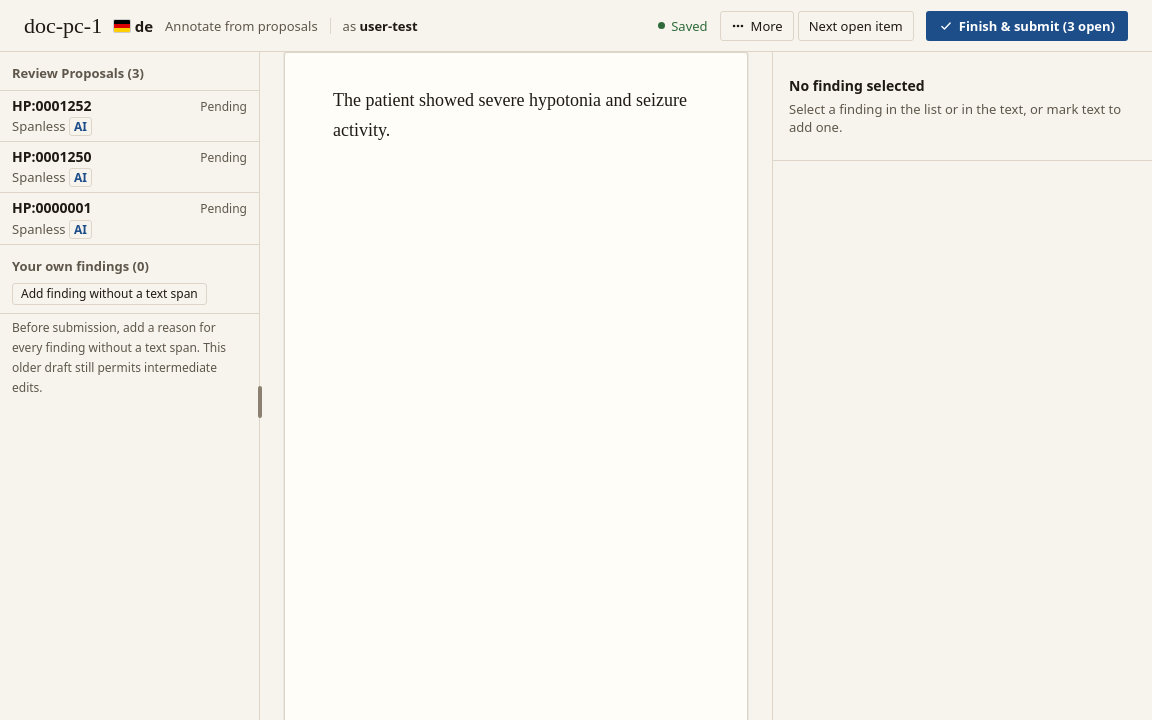
Test: Submit is unavailable until every proposal has a decision
Click the button "Finish & submit (3 open)": x=1027, y=26 [926, 10, 1128, 40]
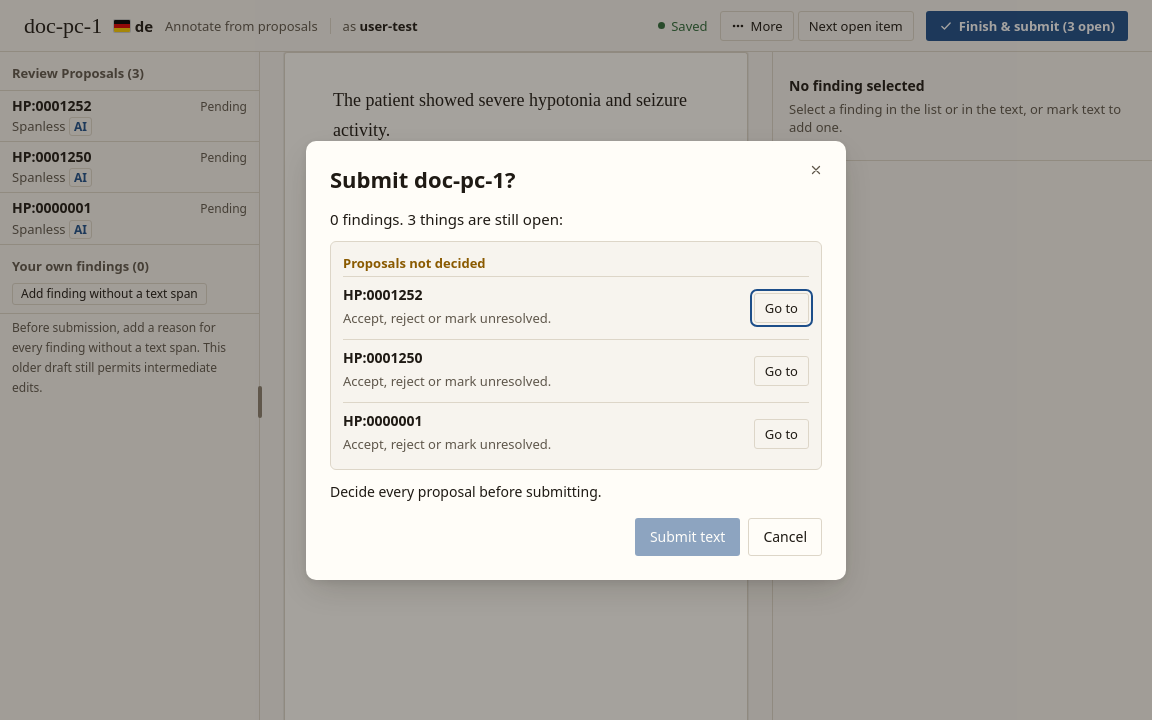
Check: the text "Decide every proposal before submitting." is shown, box [330, 482, 602, 500]
